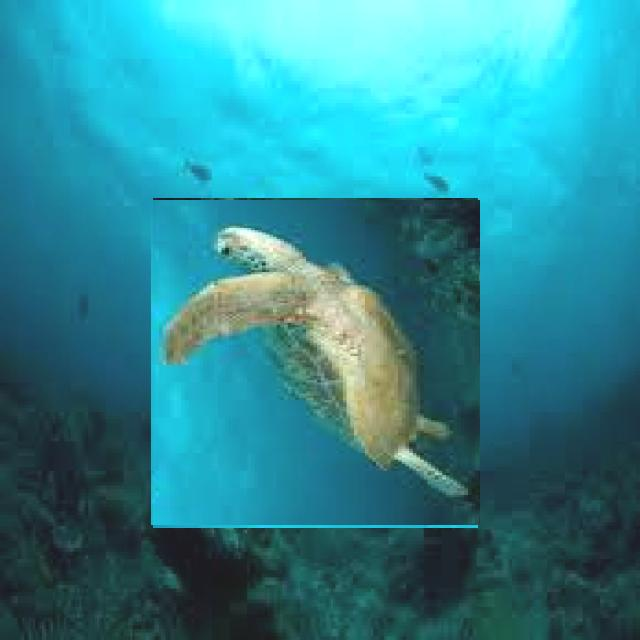Sea turtle: (152, 199, 479, 527)
